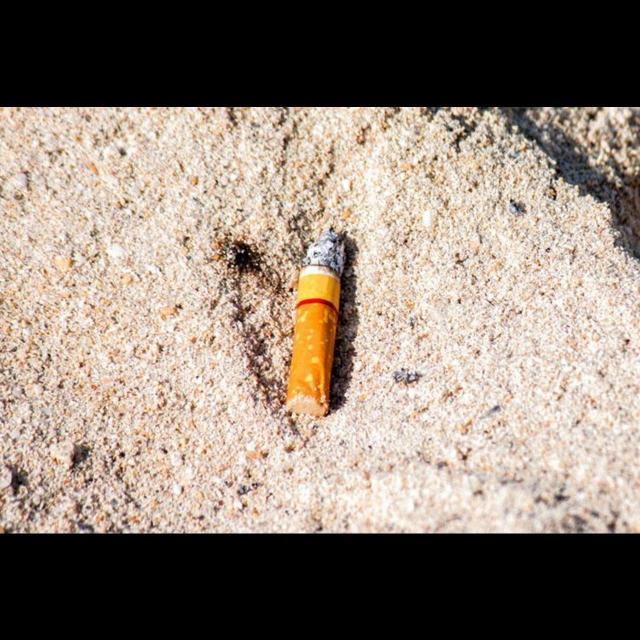cigarette: (287, 230, 342, 418)
